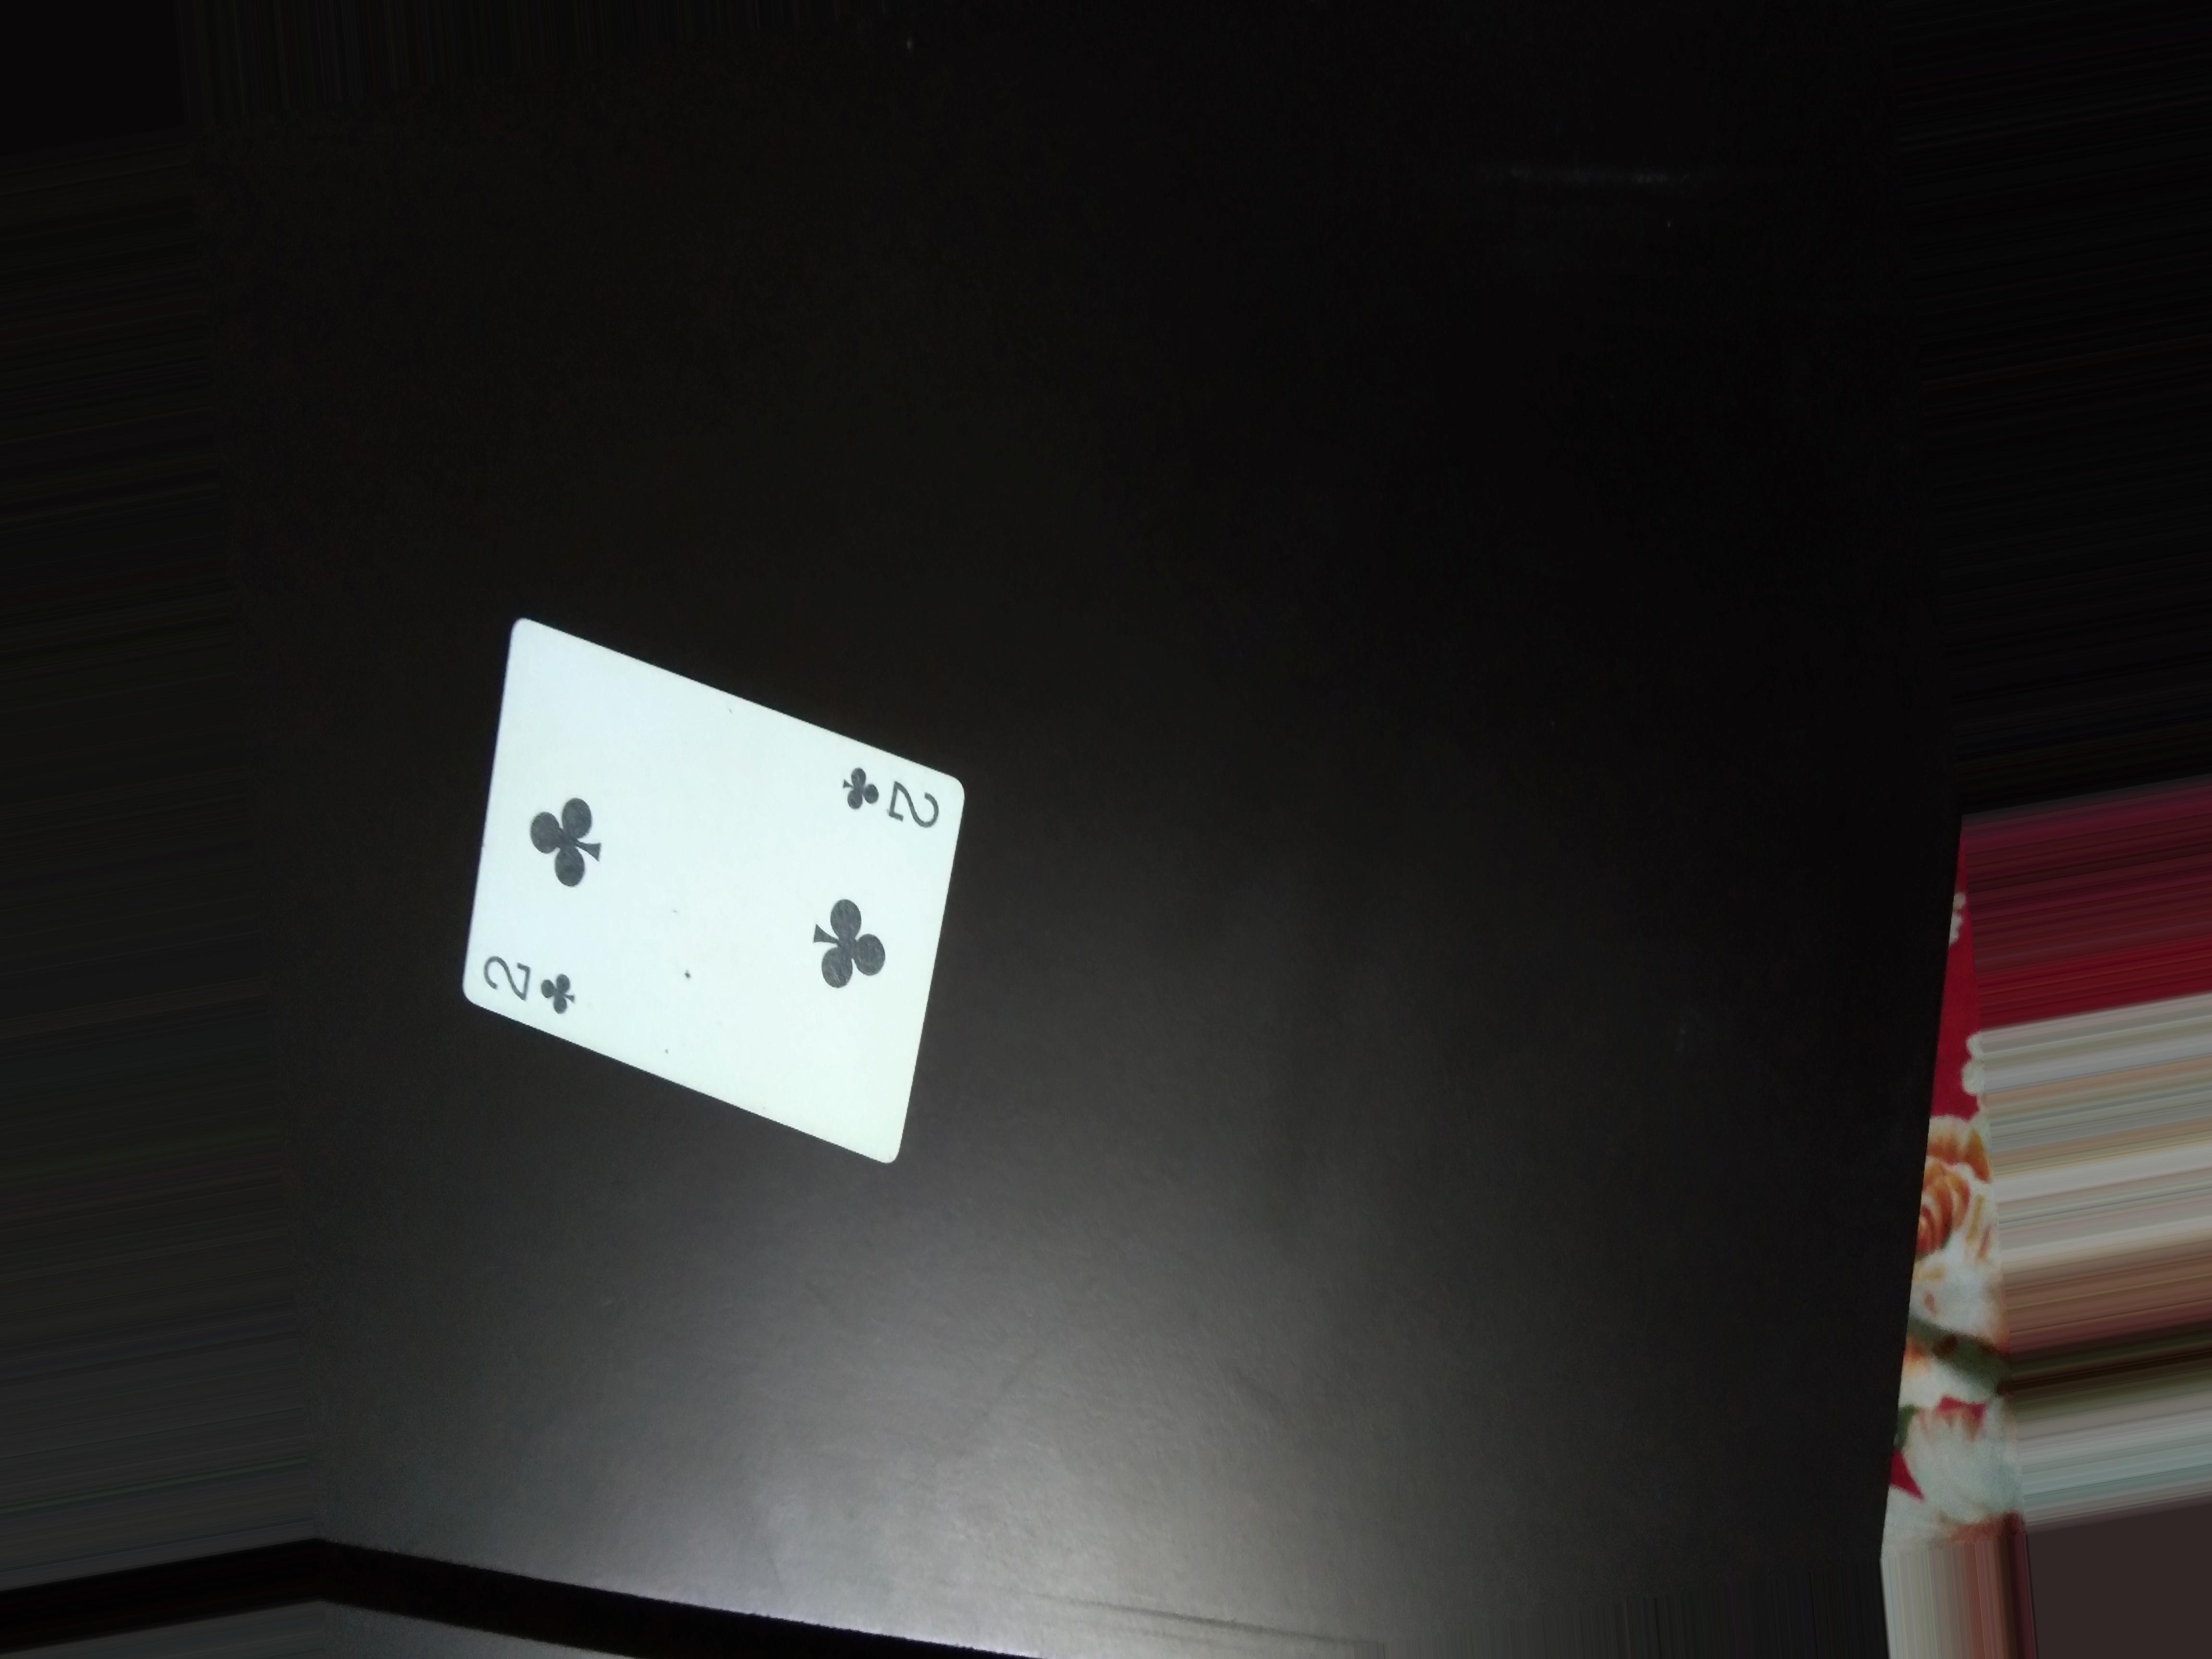2C: (456, 927, 603, 1033)
